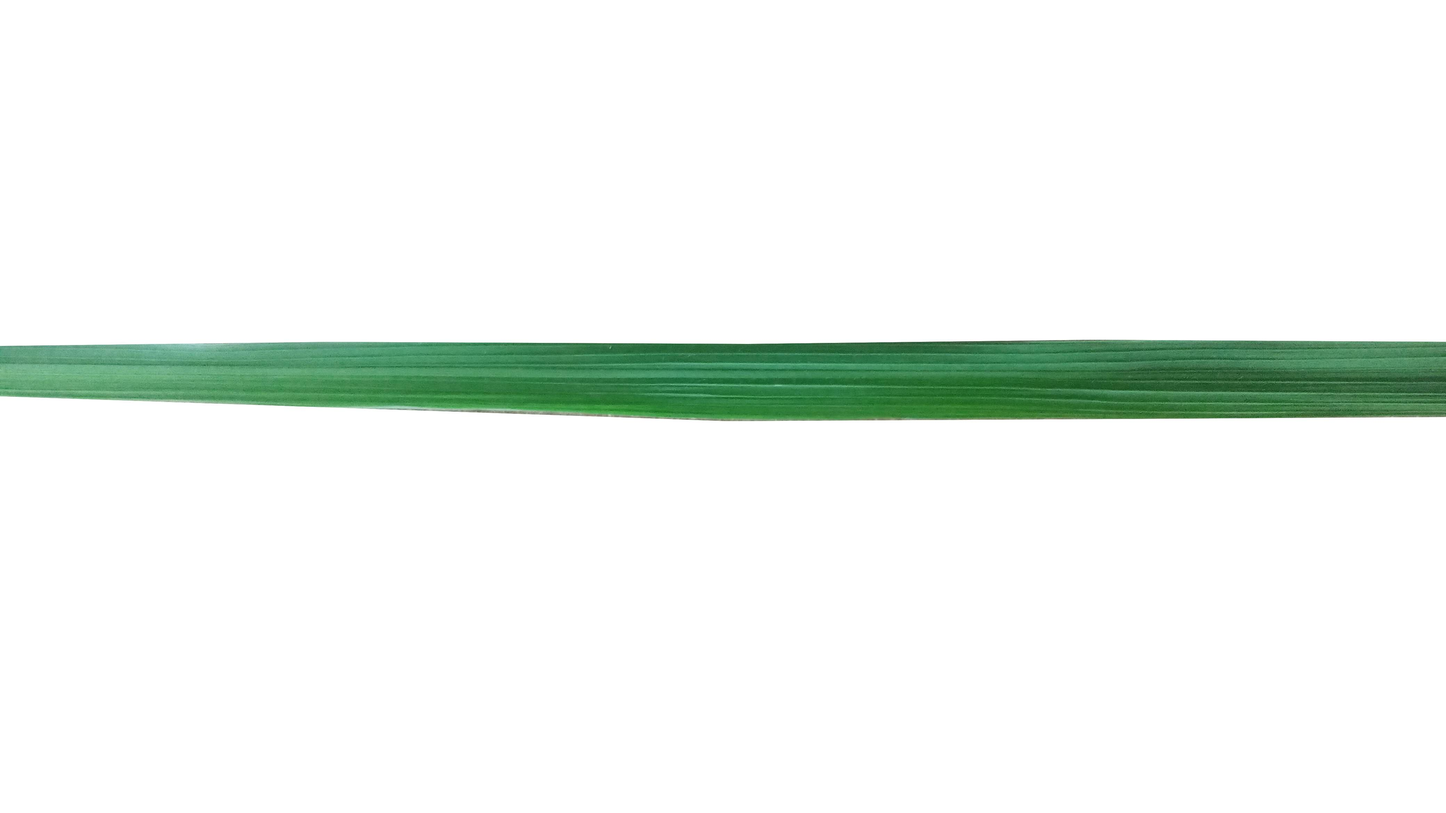Healthy: (0, 343, 1446, 425)
